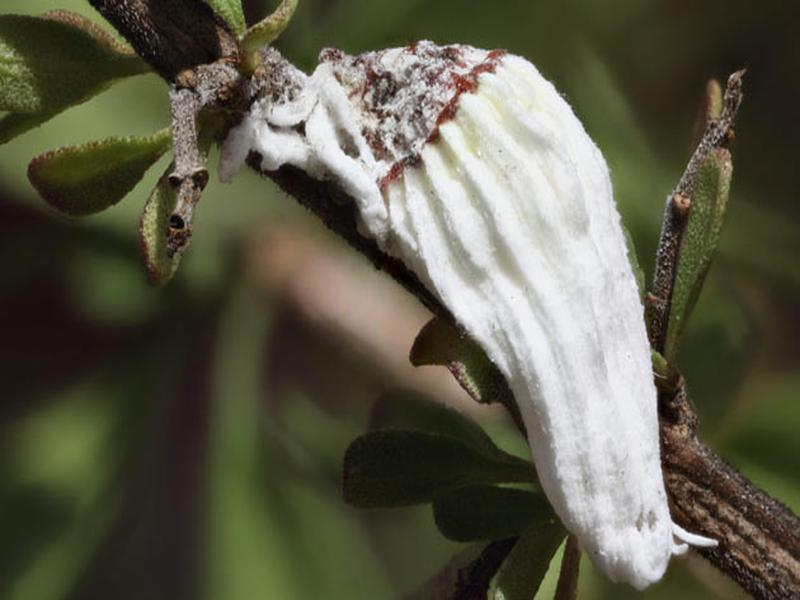Mealy_bug: (276, 38, 697, 589)
